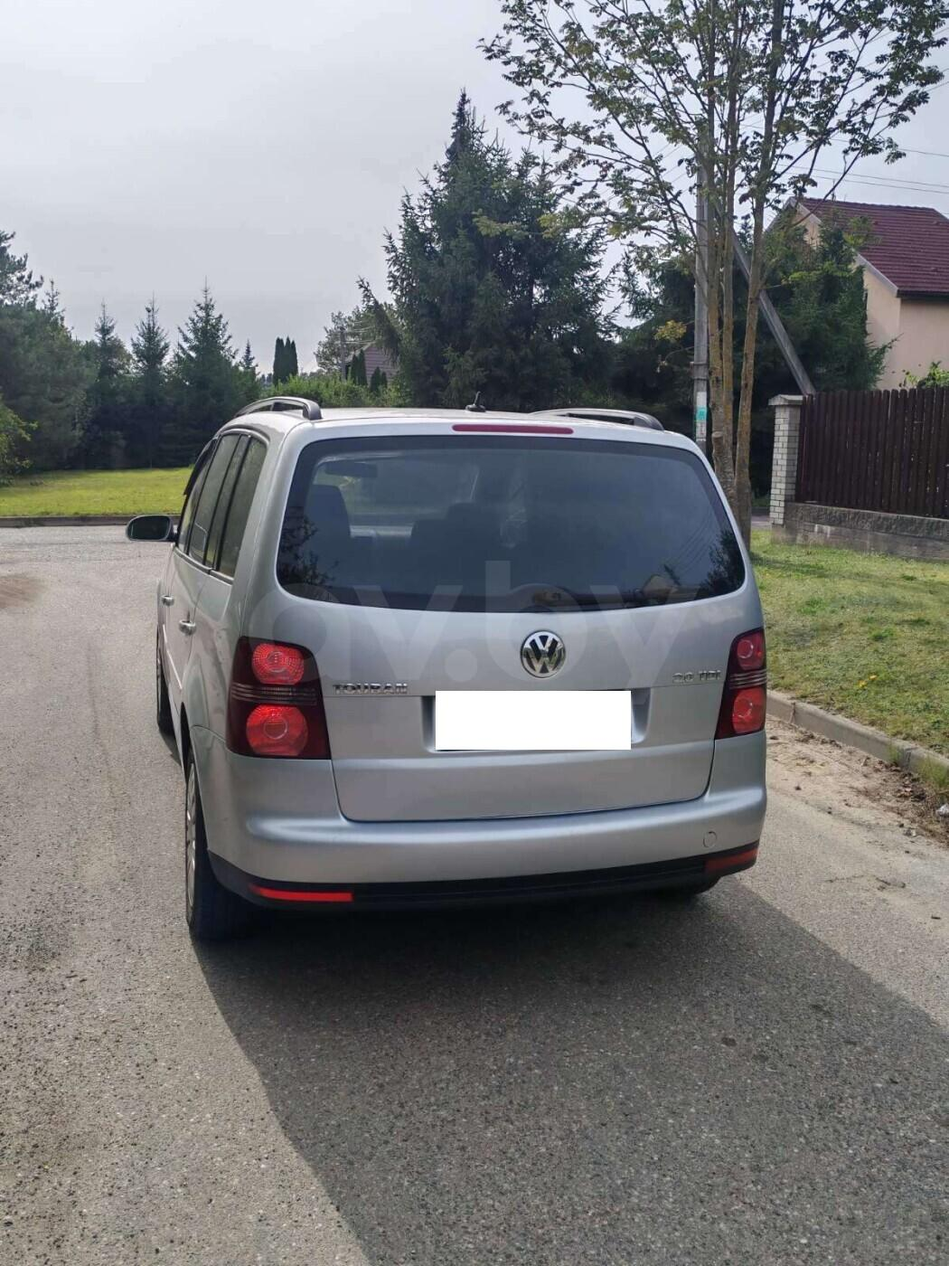Touran_2006-2010: (134, 396, 779, 939)
